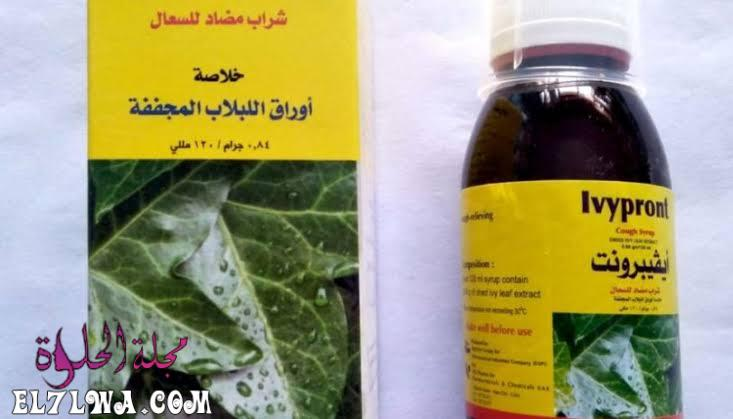Medicine: (73, 1, 388, 419), (451, 4, 697, 419)
